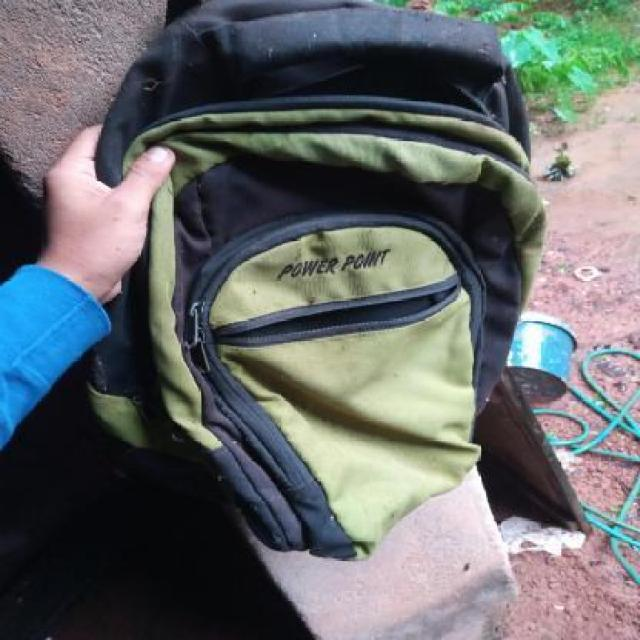backpack: (81, 0, 554, 566)
